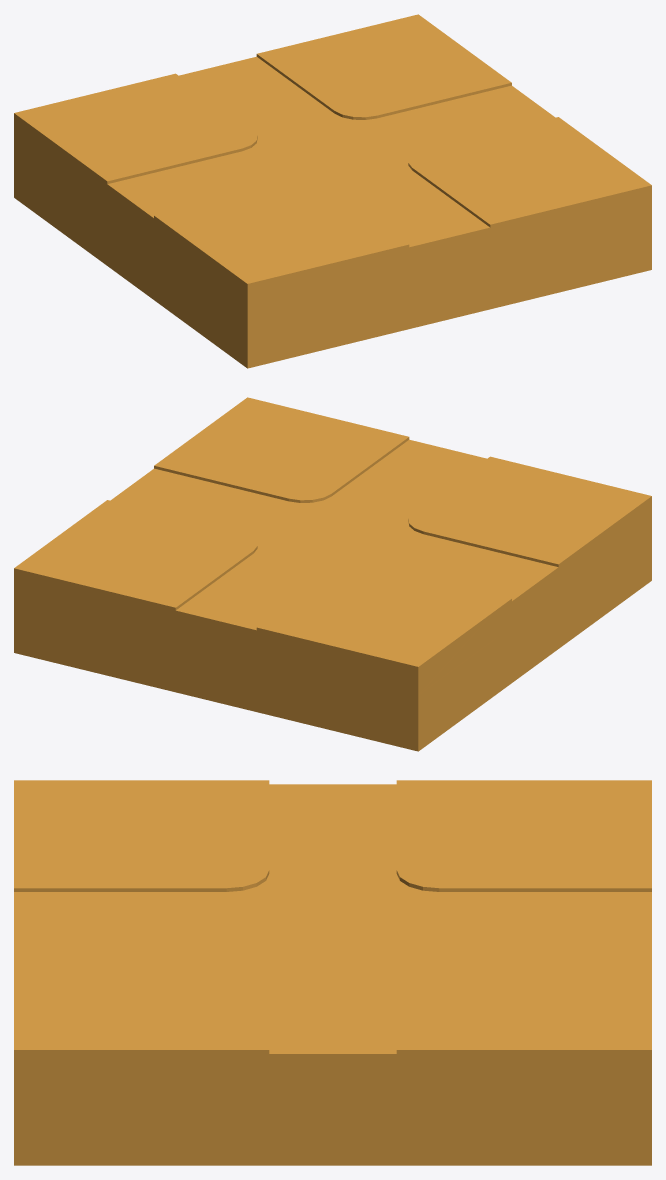
Rendered from tile-road-intersection.glb.
The picture shows the model from 3 angles, top to bottom: view 1: azimuth 30°, elevation 25°; view 2: azimuth 150°, elevation 25°; view 3: azimuth 270°, elevation 25°; orthographic projection. The views are drawn at different scales.
Visible parts, largest first — view 1: tile-road-intersection; view 2: tile-road-intersection; view 3: tile-road-intersection.
Part boxes in pixels (x1,y1,x2,y2): tile-road-intersection: [14, 14, 651, 368]; tile-road-intersection: [14, 397, 651, 751]; tile-road-intersection: [14, 780, 651, 1165].
Bounding box in the file's own units: 30 × 6 × 30.
